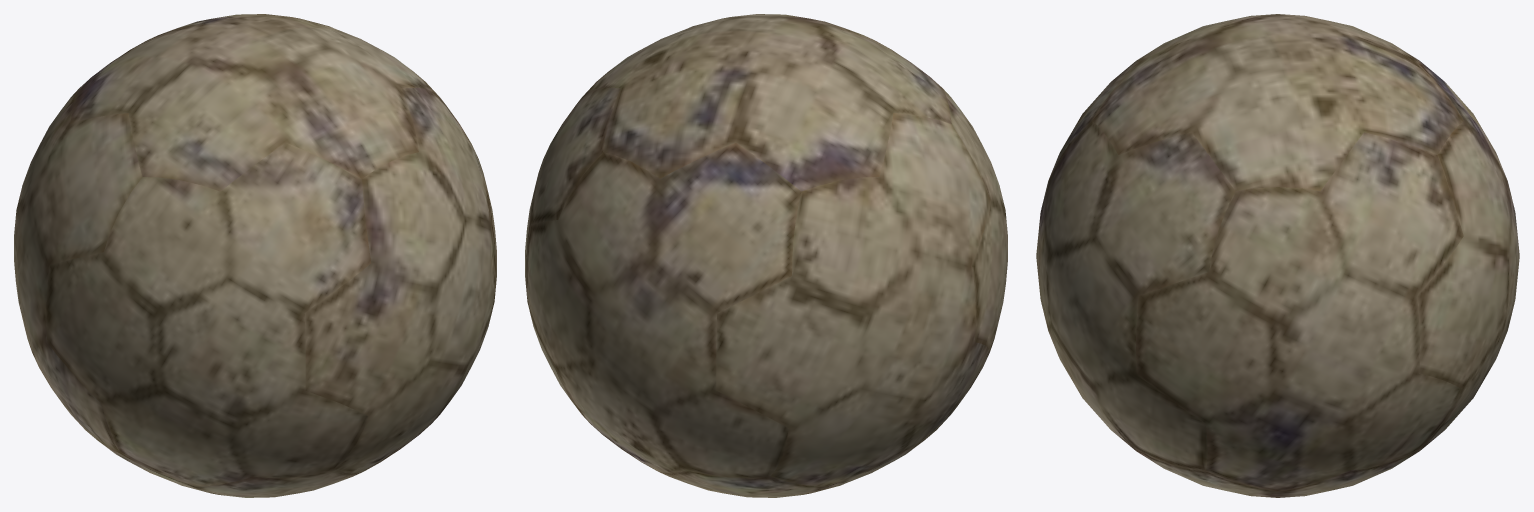
File: ph_ball.glb
The picture shows the model from 3 angles, left to right: view 1: azimuth 30°, elevation 25°; view 2: azimuth 150°, elevation 25°; view 3: azimuth 270°, elevation 25°; orthographic projection.
Visible parts, largest first — view 1: football_inflated; view 2: football_inflated; view 3: football_inflated.
Part boxes in pixels (<box>): football_inflated: <box>14,14,496,497</box>; football_inflated: <box>525,14,1007,497</box>; football_inflated: <box>1036,14,1519,497</box>.
Bounding box in the file's own units: 0.2203 × 0.2219 × 0.2206.
Materials: 1 (1 with a texture image).
